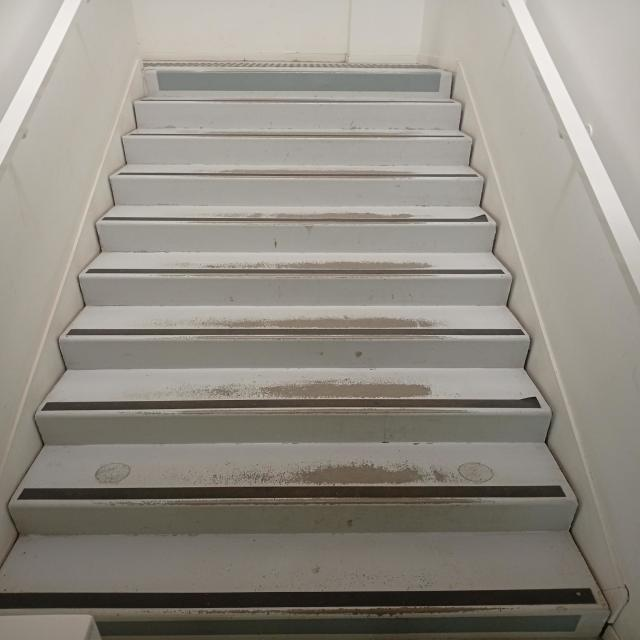Stairs: (3, 246, 603, 550)
